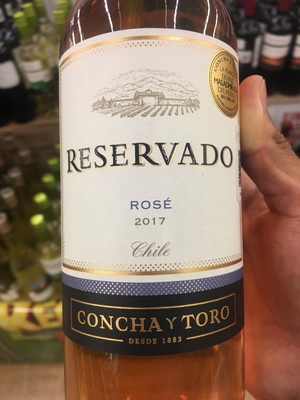reservado rose: (56, 3, 258, 400)
